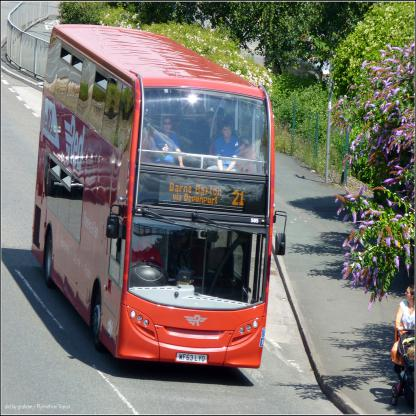Bus: (29, 21, 287, 369)
